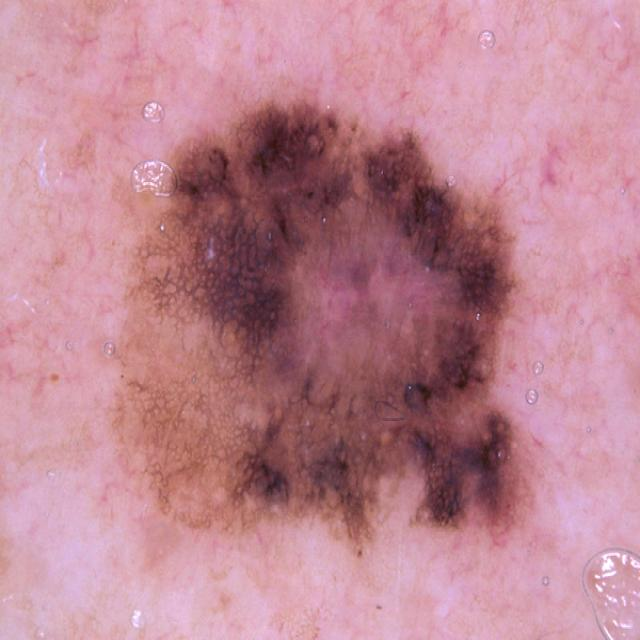MEL: (106, 91, 538, 562)
